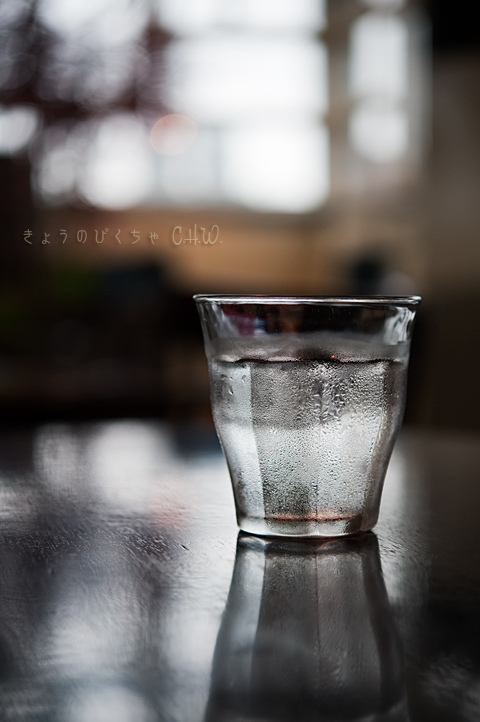glass of water: (185, 285, 428, 544)
